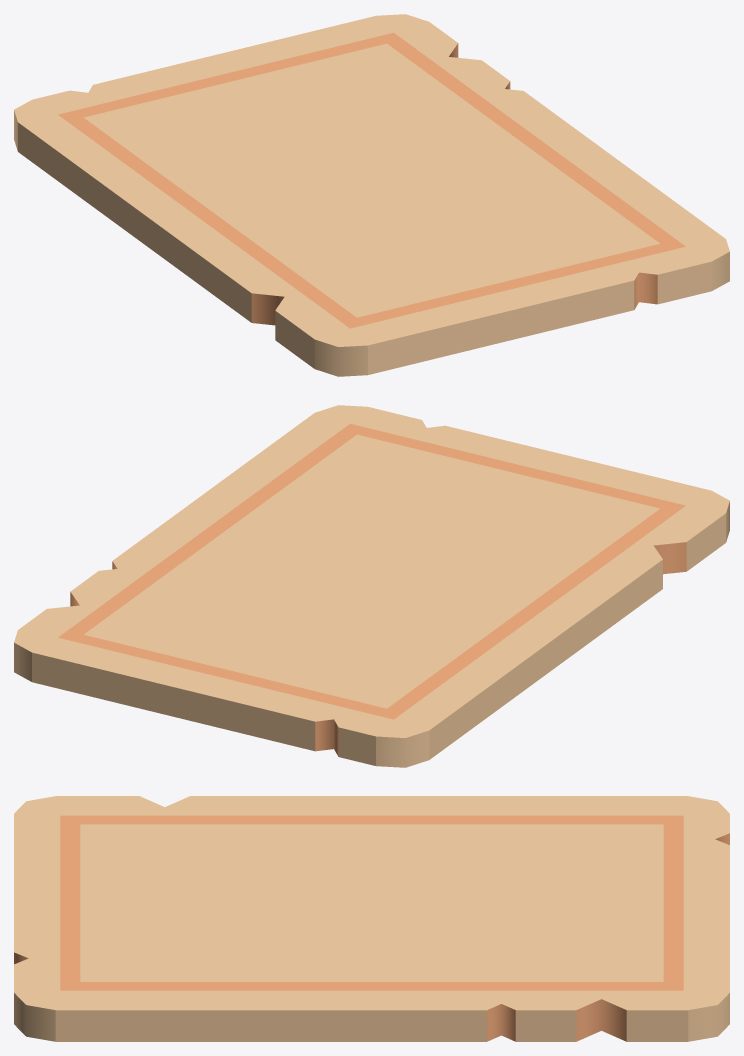
File: Cutting Board.glb
3 renders of one model, top to bottom at view 1: azimuth 30°, elevation 25°; view 2: azimuth 150°, elevation 25°; view 3: azimuth 270°, elevation 25°, orthographic. The views are drawn at different scales.
Visible parts, largest first — view 1: Cutting Board; view 2: Cutting Board; view 3: Cutting Board.
Part boxes in pixels (box(x1,y1,x2,y2)): Cutting Board: box(14, 14, 729, 376); Cutting Board: box(14, 405, 729, 767); Cutting Board: box(14, 796, 729, 1041).
Size of the model in its own units: 0.58 by 0.04 by 0.82.
